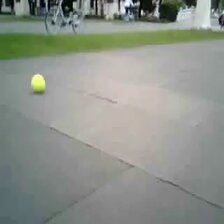tennis: (31, 73, 46, 93)
